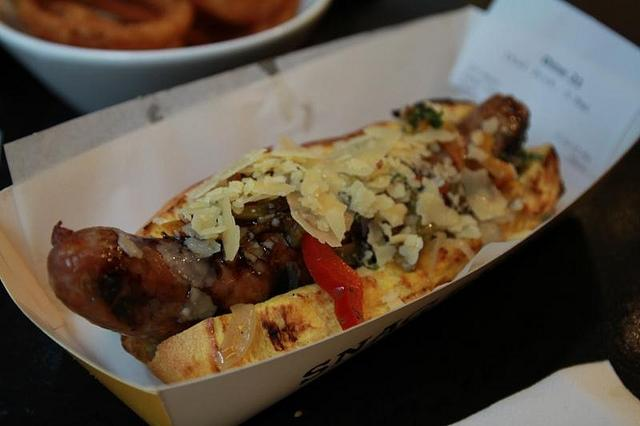onion: (155, 239, 218, 293), (213, 303, 257, 370), (462, 164, 509, 223), (177, 288, 217, 324), (479, 220, 504, 247), (117, 232, 141, 258), (339, 172, 358, 188), (254, 156, 272, 164)
